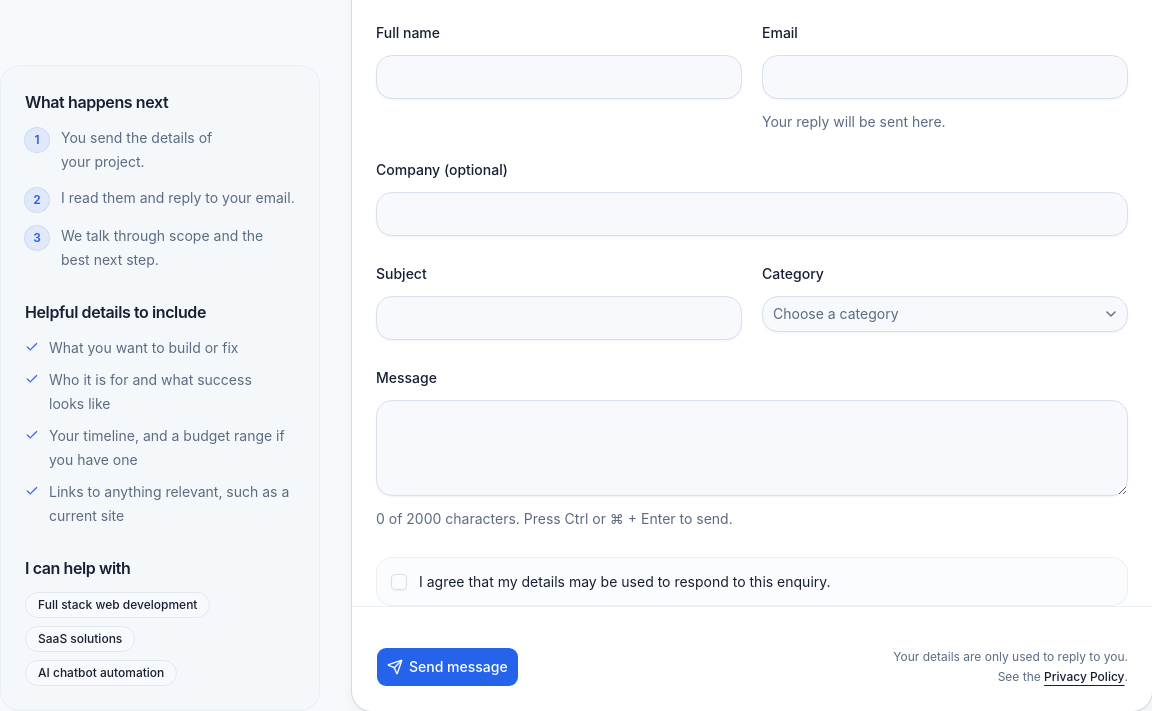
Test: ContactForm › shows field errors and does not submit an empty form
(page scrolled)
What coordinates should you click on to do the following:
click the button "Send message"
I would click on:
 (447, 667)
Its box is [376,647,519,687].
(page scrolled)
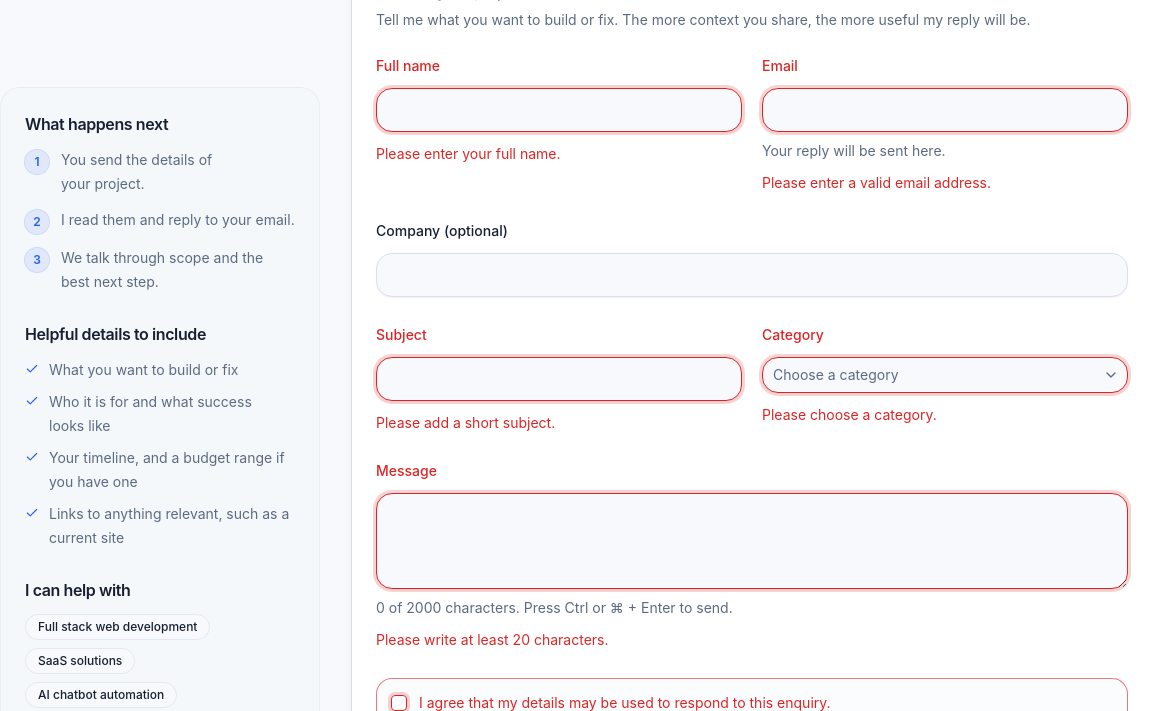
expect the text "Please enter your full name." is shown: met, box [376,145,560,162]
expect the text "Please enter a valid email address." is shown: met, box [762,174,991,191]
expect the text "Please write at least 20 characters." is shown: met, box [376,631,608,648]
